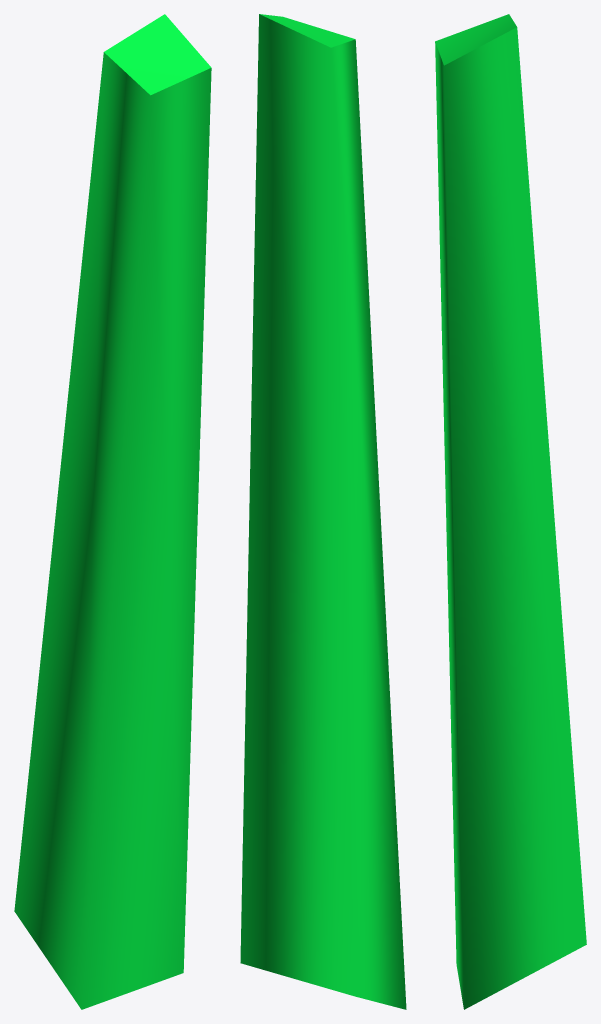
File: Plant03_d_col.FBX
The picture shows the model from 3 angles, left to right: view 1: azimuth 30°, elevation 25°; view 2: azimuth 150°, elevation 25°; view 3: azimuth 270°, elevation 25°; orthographic projection. The views are drawn at different scales.
Visible parts, largest first — view 1: Plant03_d_col; view 2: Plant03_d_col; view 3: Plant03_d_col.
Boxes of the visible parts, bbox=[...] form: Plant03_d_col: bbox=[14, 14, 211, 1009]; Plant03_d_col: bbox=[240, 14, 406, 1009]; Plant03_d_col: bbox=[435, 14, 586, 1009].
Size of the model in its own units: 43.23 by 295 by 40.72.
